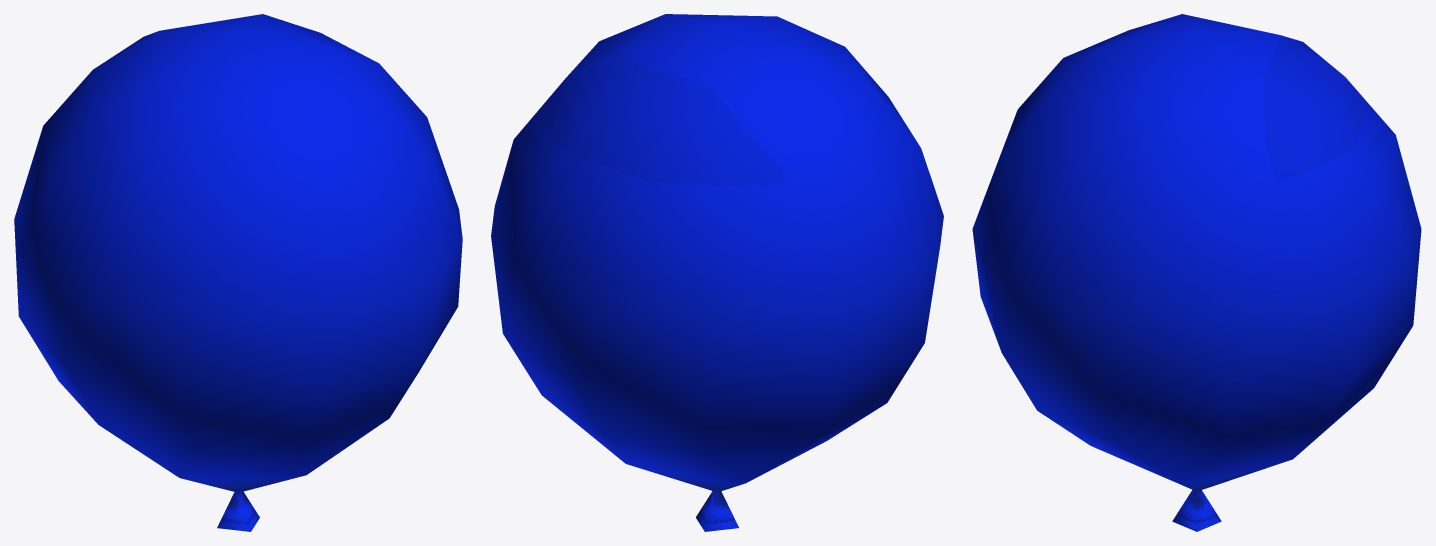
File: cmn_obj_balloonB_SD.obj
3 renders of one model, left to right at view 1: azimuth 30°, elevation 25°; view 2: azimuth 150°, elevation 25°; view 3: azimuth 270°, elevation 25°, orthographic.
Visible parts, largest first — view 1: polygon0; view 2: polygon0; view 3: polygon0.
Part boxes in pixels (x1,y1,x2,y2): polygon0: [14, 14, 462, 531]; polygon0: [491, 14, 943, 531]; polygon0: [972, 14, 1421, 531].
Size of the model in its own units: 10.03 by 12.07 by 10.03.
